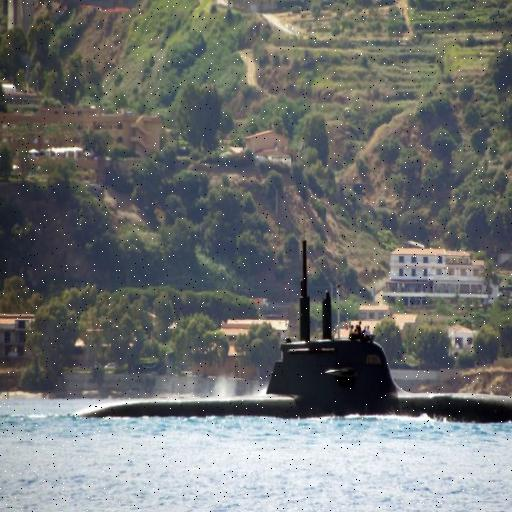submarine: (63, 229, 512, 420)
